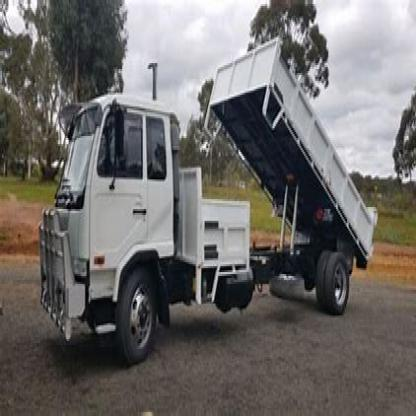dump_truck: (34, 35, 380, 361)
